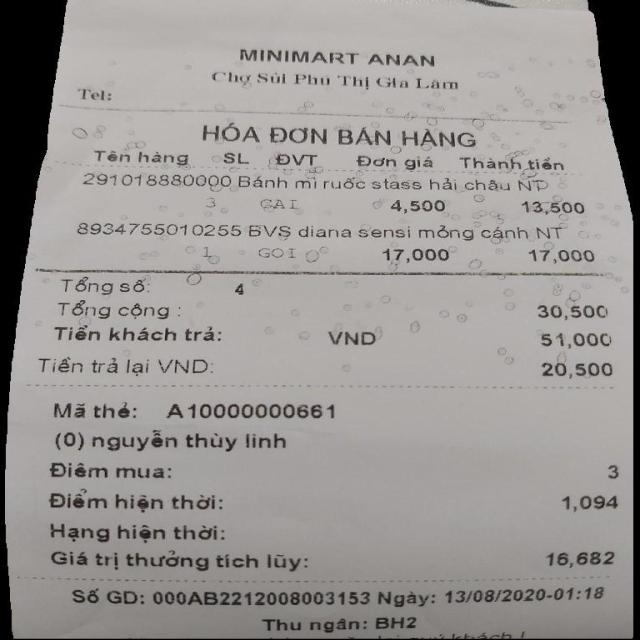Date: (443, 585, 549, 603)
Store_Name: (232, 39, 450, 71)
amount_number: (532, 295, 615, 320)
label_total: (55, 300, 174, 320)
